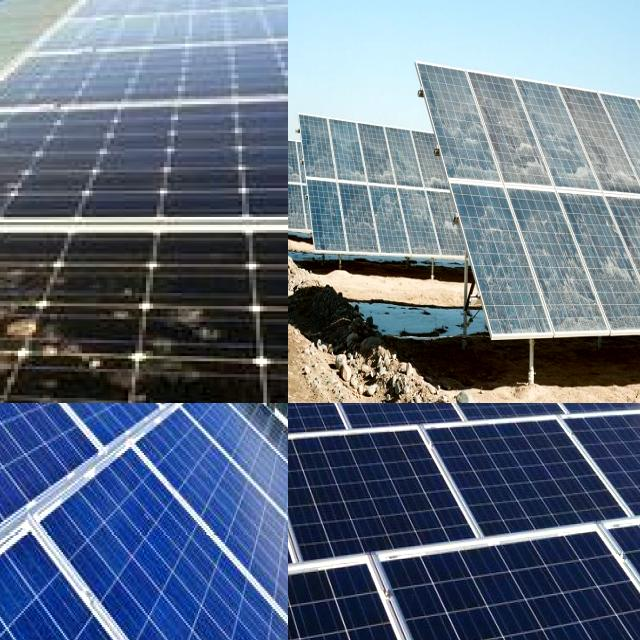bird: (0, 319, 55, 361), (0, 311, 56, 337), (0, 267, 34, 303), (0, 379, 27, 403)
crack: (24, 471, 288, 640), (115, 403, 288, 640), (410, 403, 640, 561), (288, 421, 492, 577), (0, 403, 160, 570), (374, 552, 640, 640), (173, 403, 288, 606), (288, 549, 541, 640), (0, 403, 170, 534), (22, 403, 195, 494), (60, 403, 228, 491), (288, 438, 369, 593), (560, 403, 640, 536)
dust: (310, 134, 446, 234), (490, 193, 580, 341), (442, 84, 532, 182), (541, 92, 620, 192), (596, 205, 640, 317), (288, 144, 315, 227), (625, 121, 640, 192), (288, 149, 300, 205)
